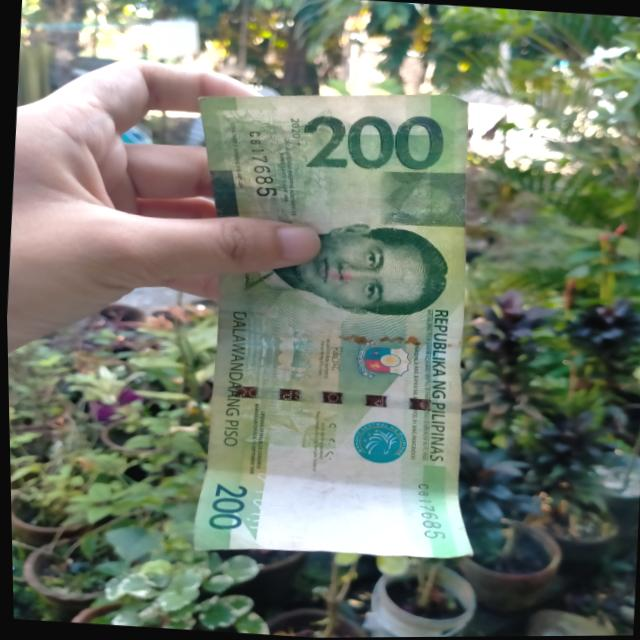security_thread: (215, 379, 465, 416)
see_through_mark: (241, 460, 279, 542)
serial_number: (406, 477, 455, 544), (237, 124, 280, 199)
value: (294, 103, 446, 176)
